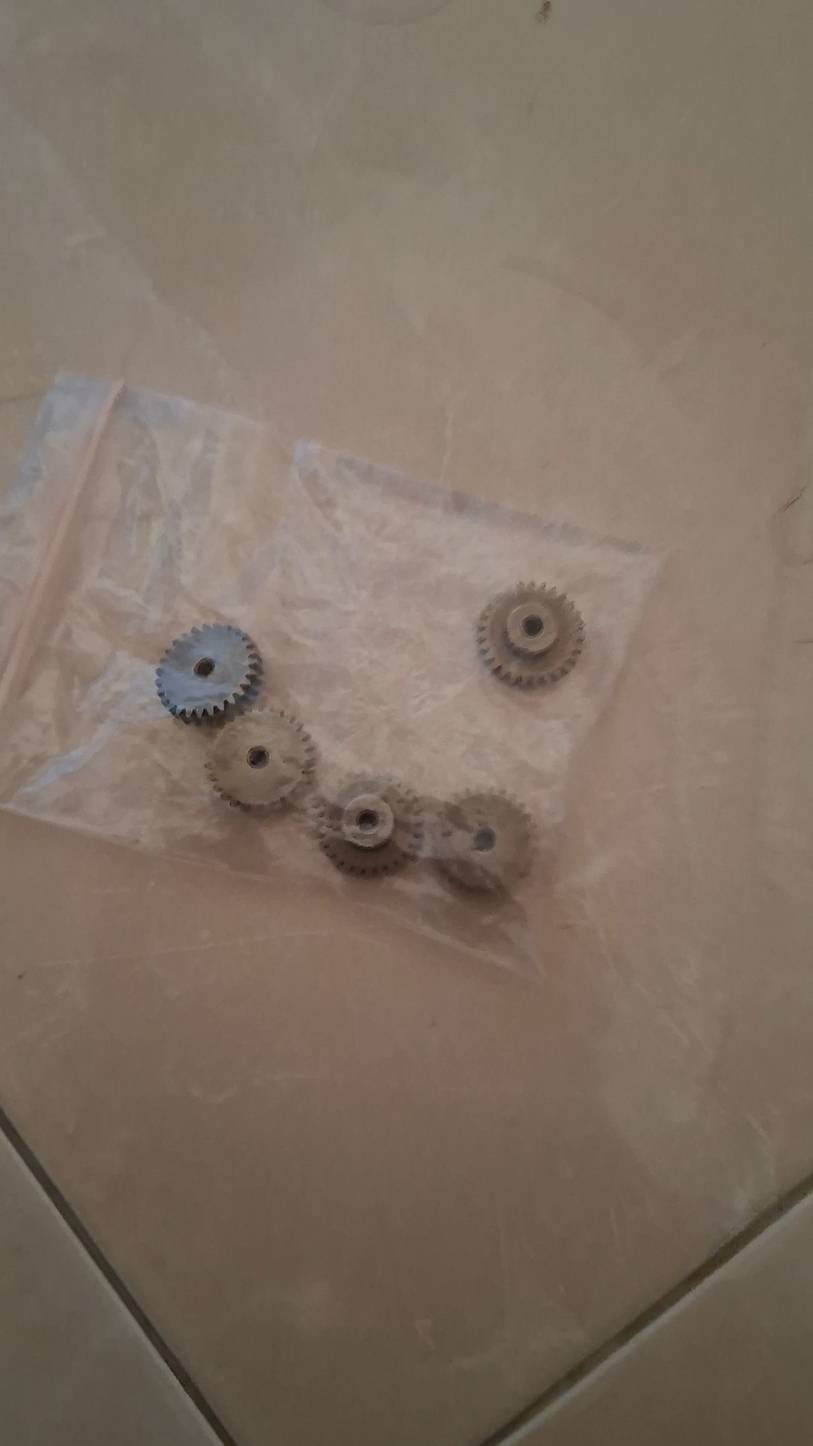spur gear: (477, 583, 584, 687), (207, 710, 315, 811), (317, 777, 423, 876), (157, 624, 262, 722), (431, 792, 533, 890)
